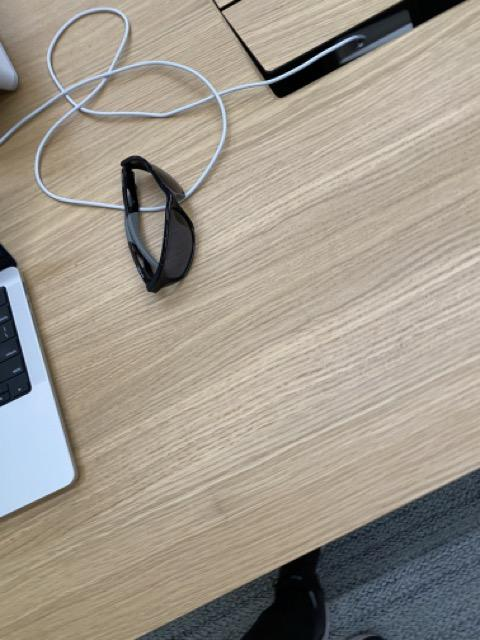Sunglasses: (119, 154, 197, 294)
